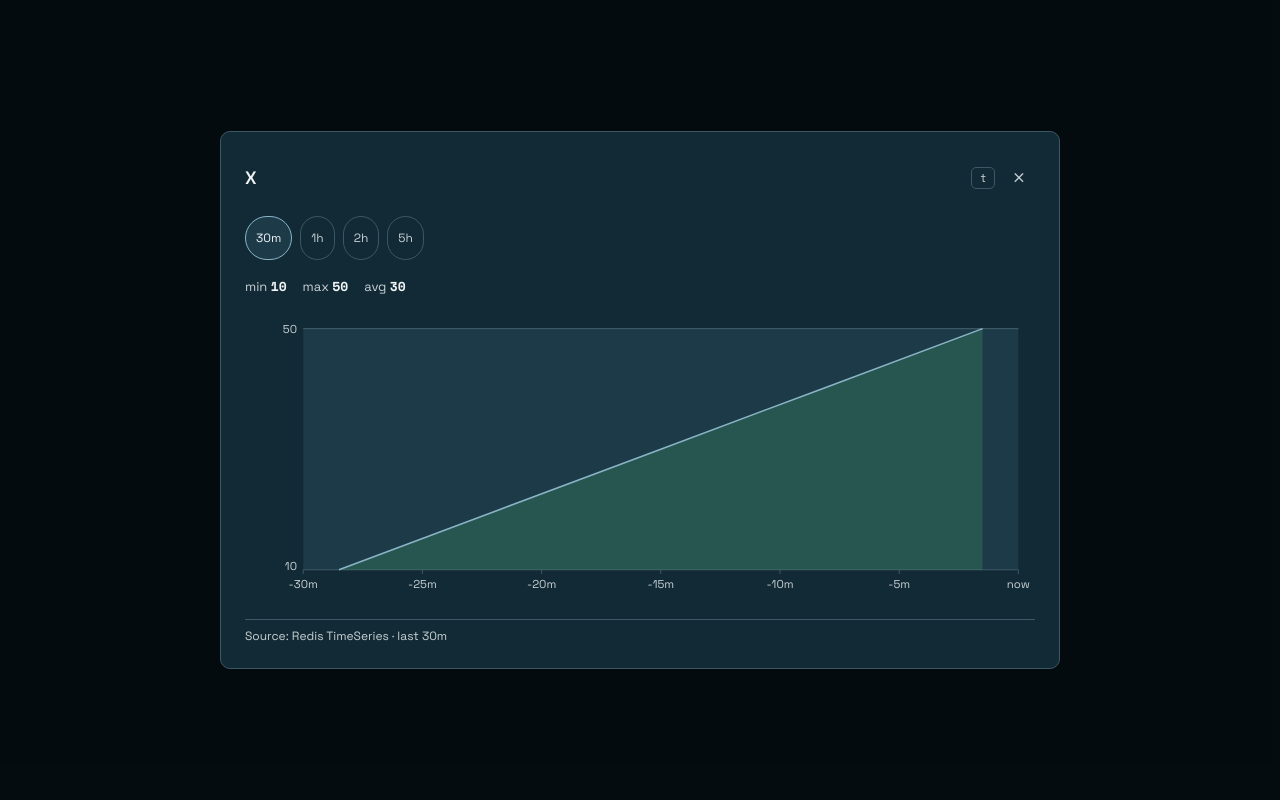
<MetricHistoryModal /> › drag from x=200 to x=400 zooms, narrowing the path and stats
Expected: the element with test id "mhm-badge-min" shows "10", [271,276,287,296]
Expected: the element with test id "mhm-badge-max" shows "50", [332,276,348,296]
Press the mouse on the picture with test id "metric-history-modal-chart" at (640, 458), box [245,312,1035,603]
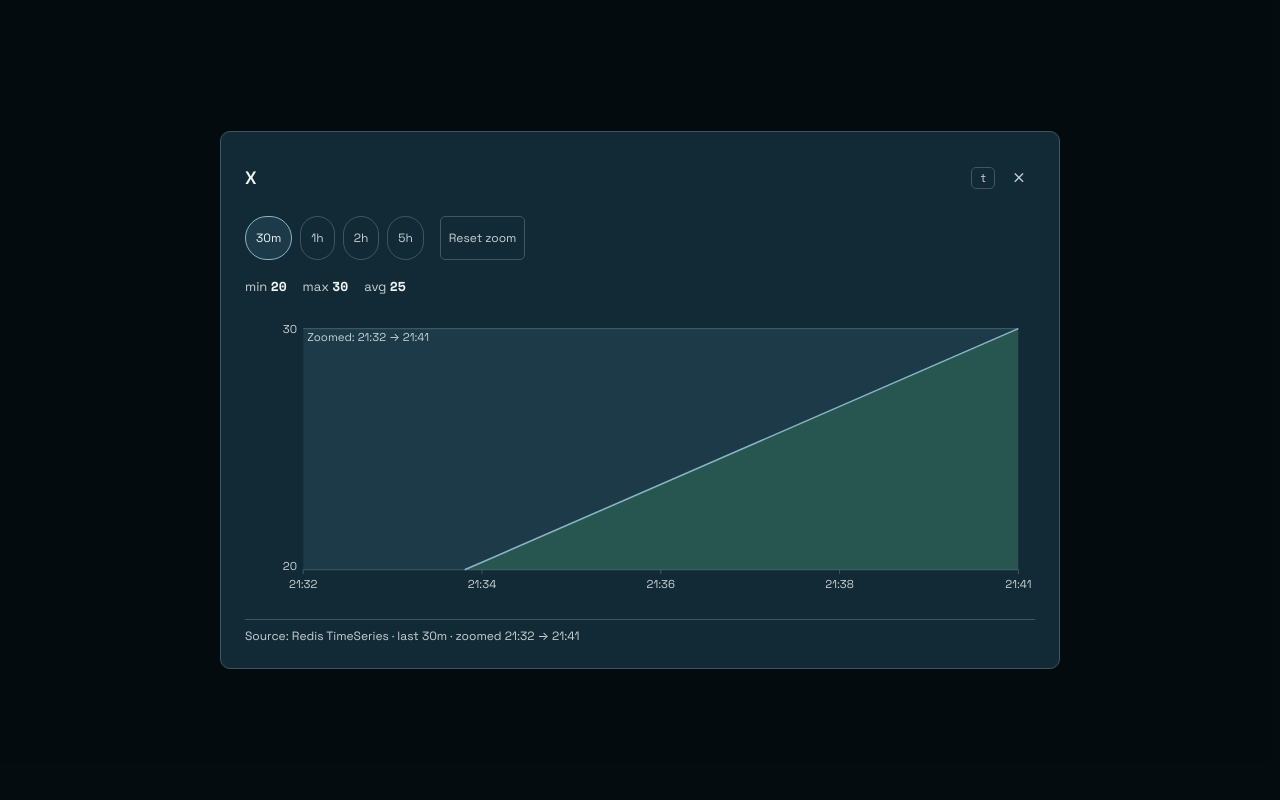
Result: the element with test id "mhm-badge-min" shows "20" at [271,276,287,296]
Result: the element with test id "mhm-badge-max" shows "30" at [332,276,348,296]
Result: the button with test id "mhm-reset-zoom" is shown at [440,216,526,260]
